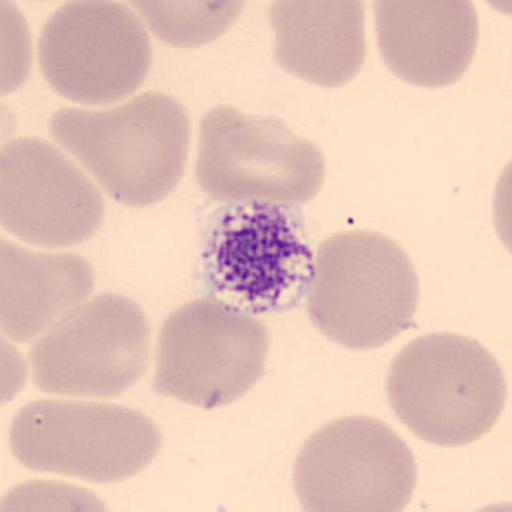Platelet: (197, 195, 321, 317)
RBC: (47, 89, 193, 211), (194, 102, 332, 212), (303, 226, 422, 352), (384, 330, 508, 450), (5, 396, 166, 486), (150, 296, 272, 411), (26, 292, 153, 399), (290, 413, 420, 511), (35, 0, 154, 107), (91, 89, 192, 209), (2, 136, 106, 250), (3, 235, 97, 345), (370, 0, 479, 90), (266, 0, 367, 90), (123, 0, 251, 49), (0, 475, 119, 511), (0, 0, 33, 99), (490, 157, 512, 262), (1, 331, 29, 407), (455, 499, 512, 512), (472, 0, 512, 18)
